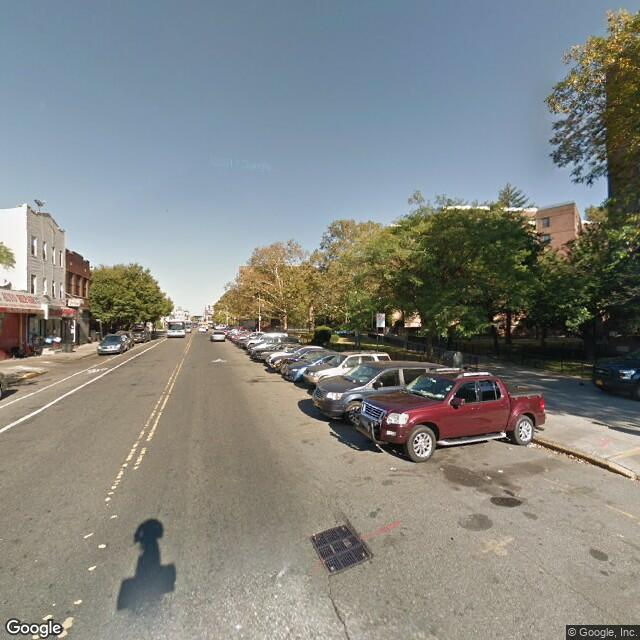litter: (527, 434, 589, 465)
